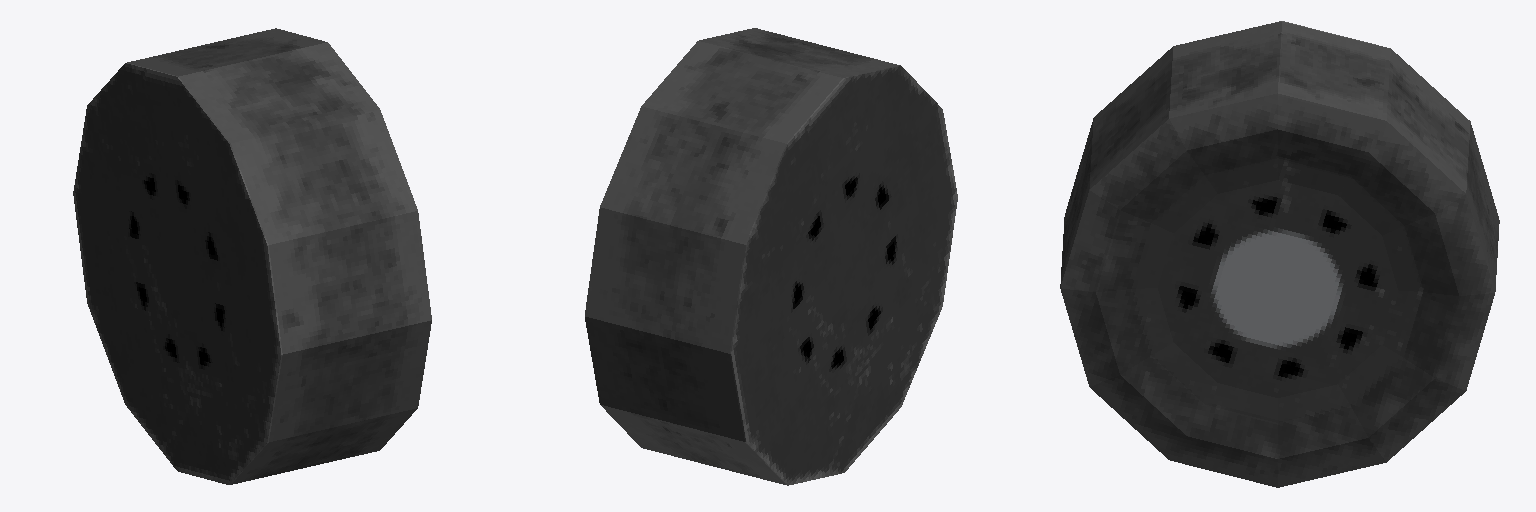
3 renders of one model, left to right at view 1: azimuth 30°, elevation 25°; view 2: azimuth 150°, elevation 25°; view 3: azimuth 270°, elevation 25°, orthographic.
Parts seen in each view (by area): view 1: llanta1; view 2: llanta1; view 3: llanta1.
Part boxes in pixels (x1,y1,x2,y2): llanta1: (73, 28, 431, 484); llanta1: (585, 28, 957, 485); llanta1: (1060, 21, 1499, 487).
Size of the model in its own units: 1.84 by 4.22 by 4.26.
1 materials, 1 textured.